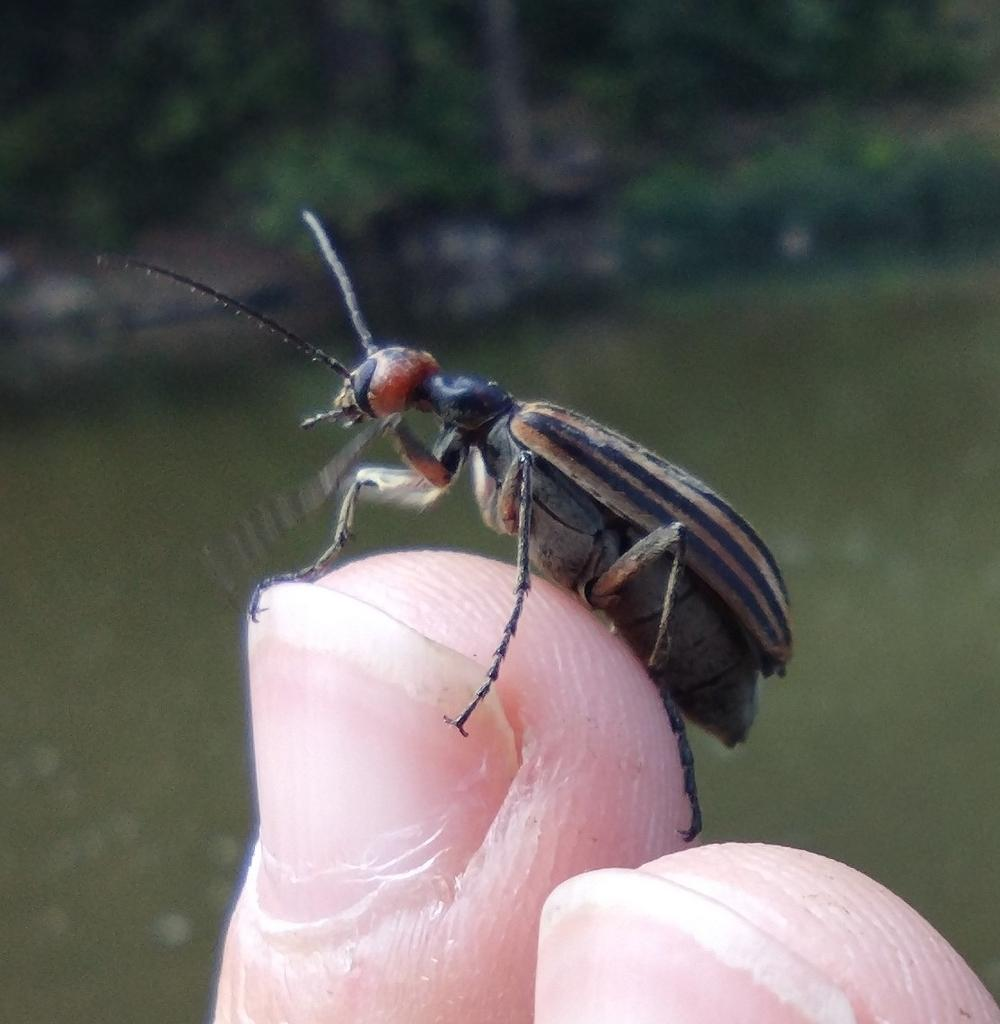blister_beetle: (42, 89, 883, 830)
